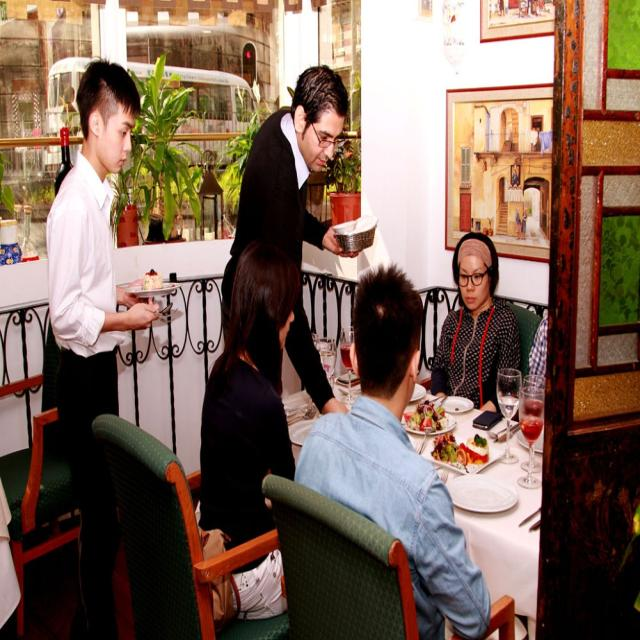body: (292, 259, 491, 640), (44, 55, 172, 640), (218, 61, 382, 418), (197, 244, 298, 624), (429, 229, 521, 413), (525, 292, 553, 400), (60, 85, 78, 139)
